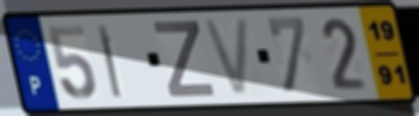2: (319, 15, 370, 92)
5: (45, 22, 98, 102)
7: (264, 15, 309, 97)
I: (94, 22, 125, 101)
V: (199, 15, 253, 100)
Z: (150, 19, 219, 100)
